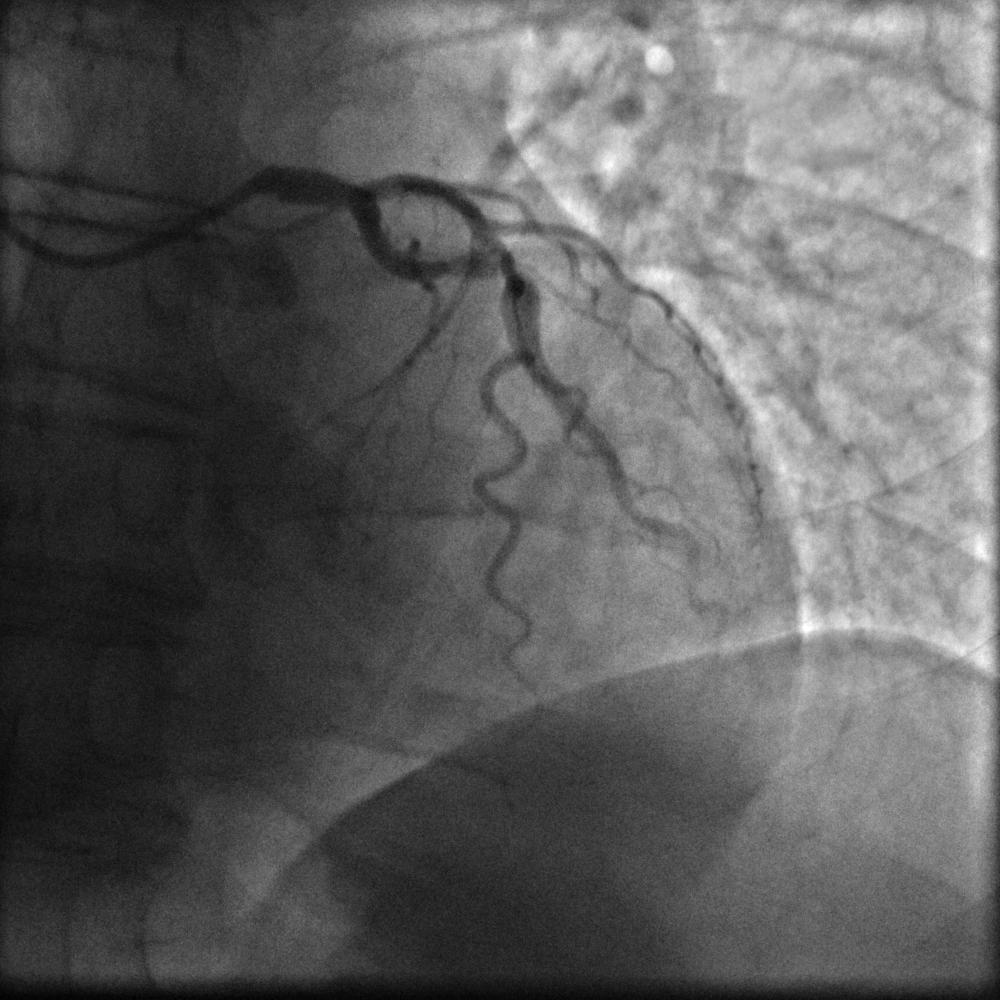Stenosis: (476, 246, 536, 284)
